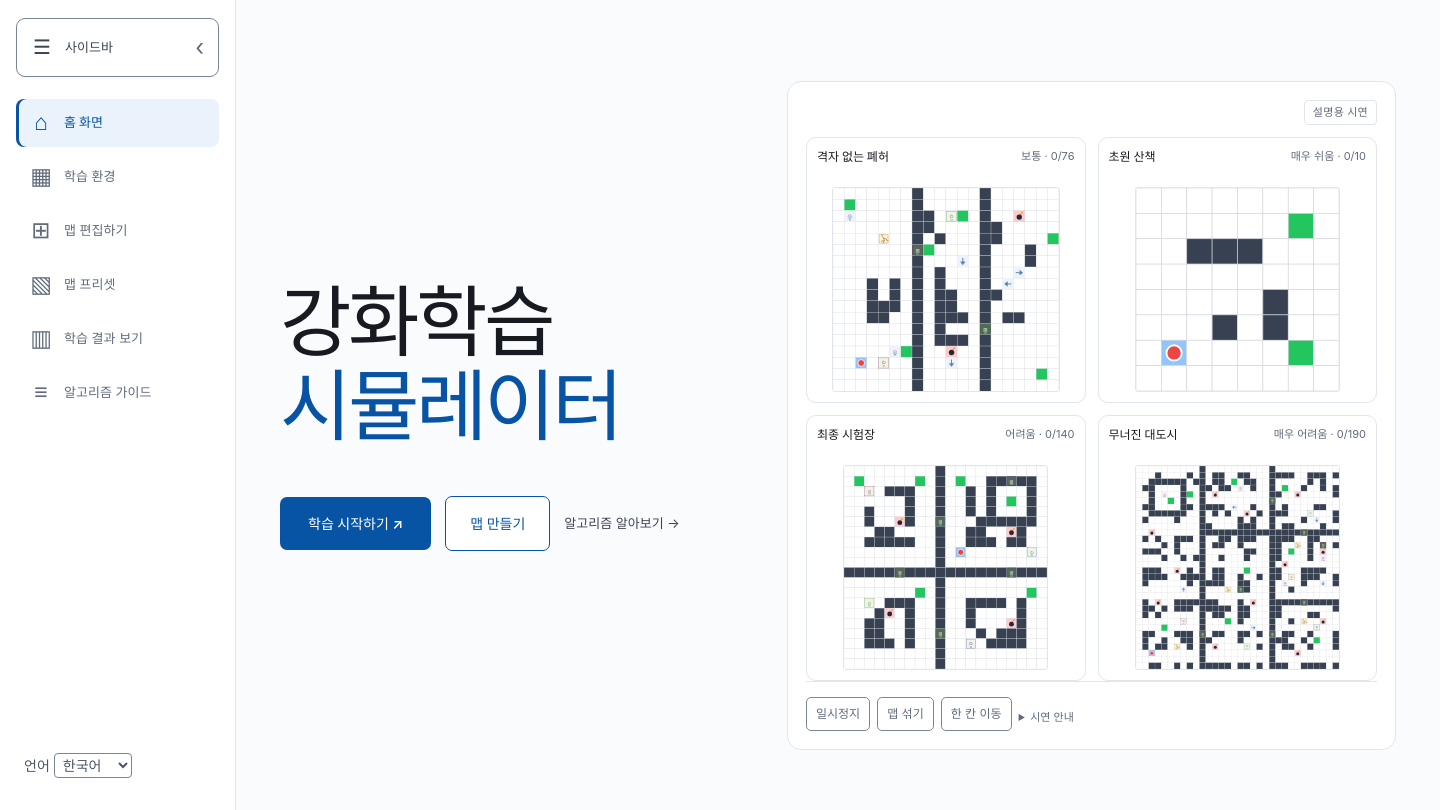
training-complete toast › × removes only the note and keeps the Q-table and history
Click the button with test id "nav-environment" at (118, 176), box [16,152,219,200]
Wait 4000 ms
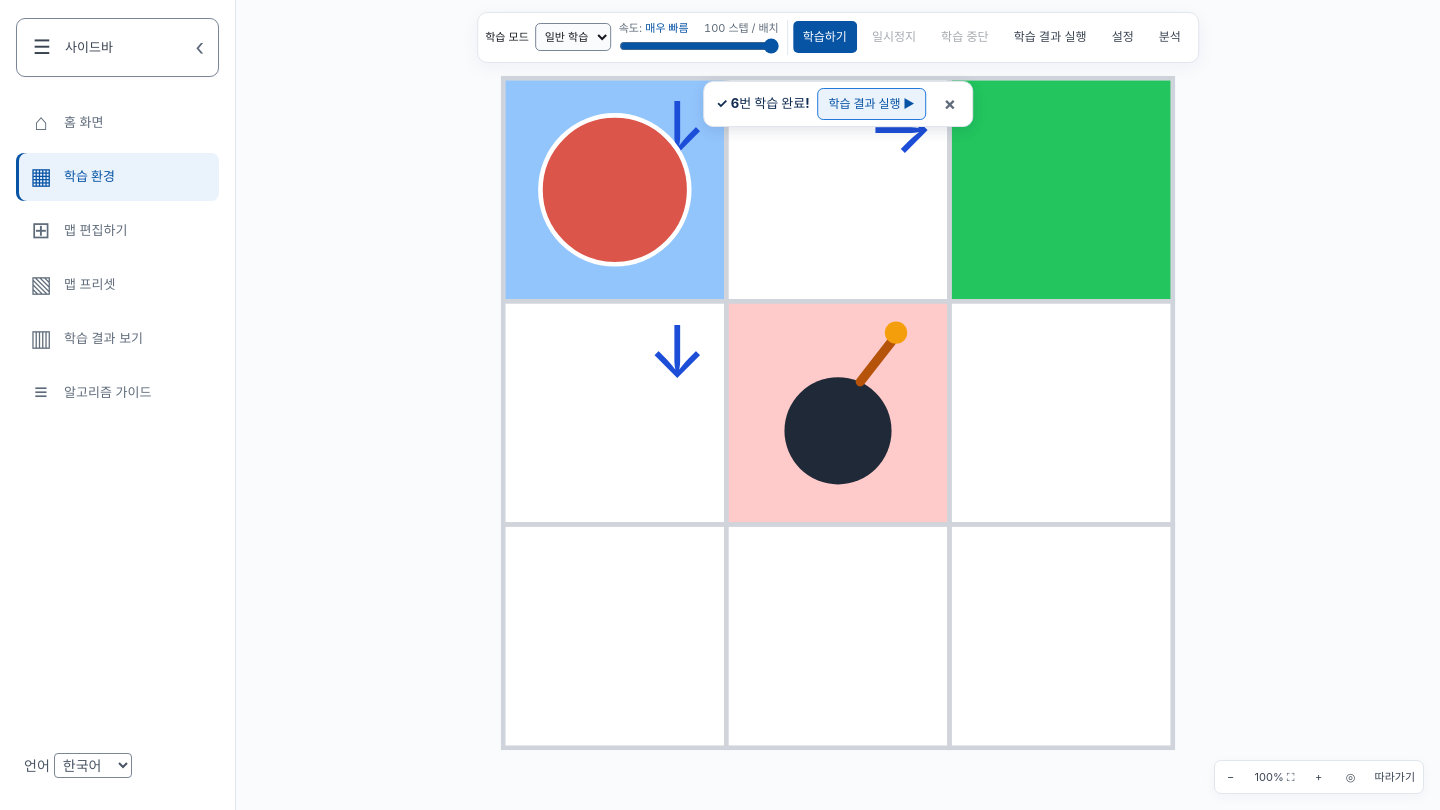
Click the button with test id "completion-close" at (950, 104), box [934,88,966,120]
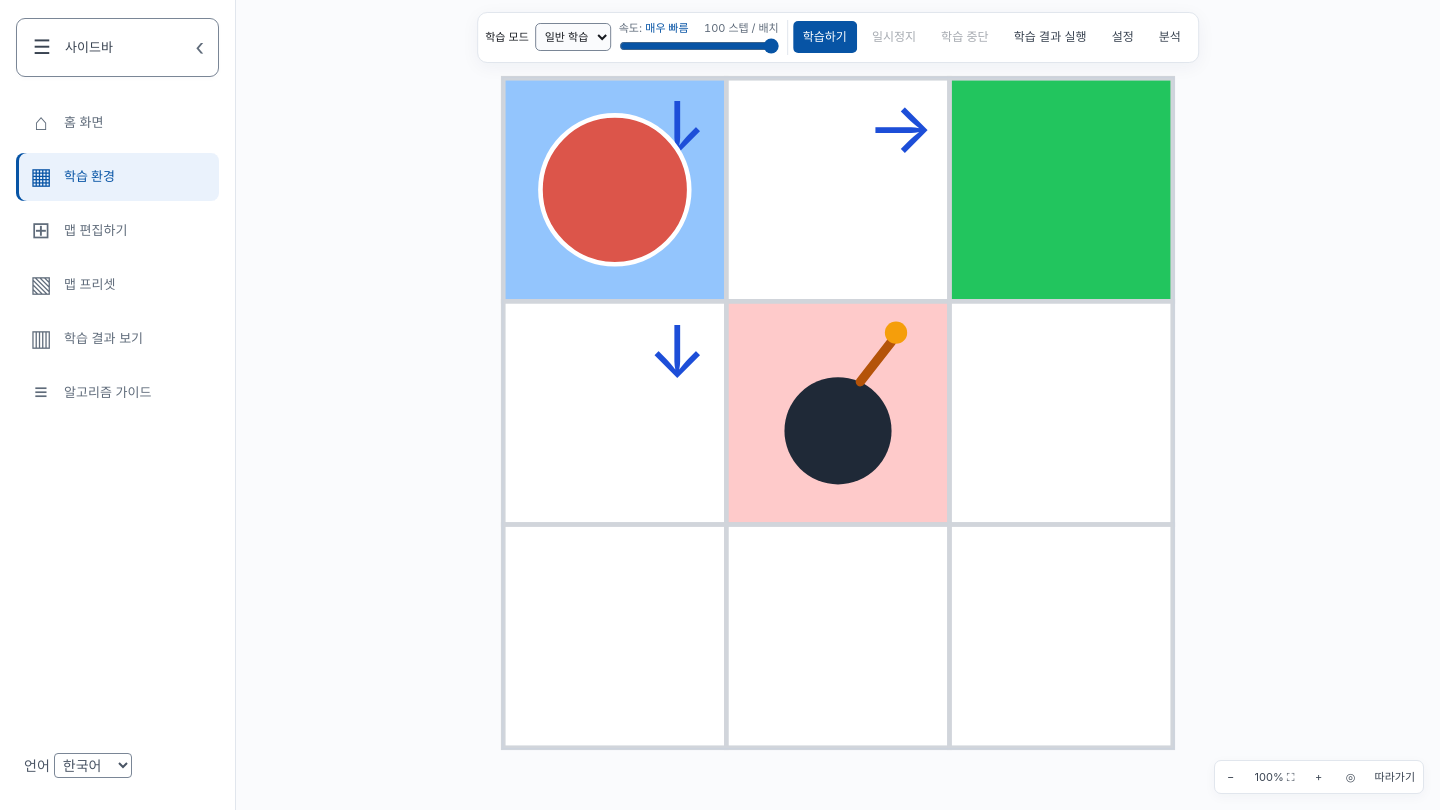
Expected: the message with test id "training-complete" is gone
